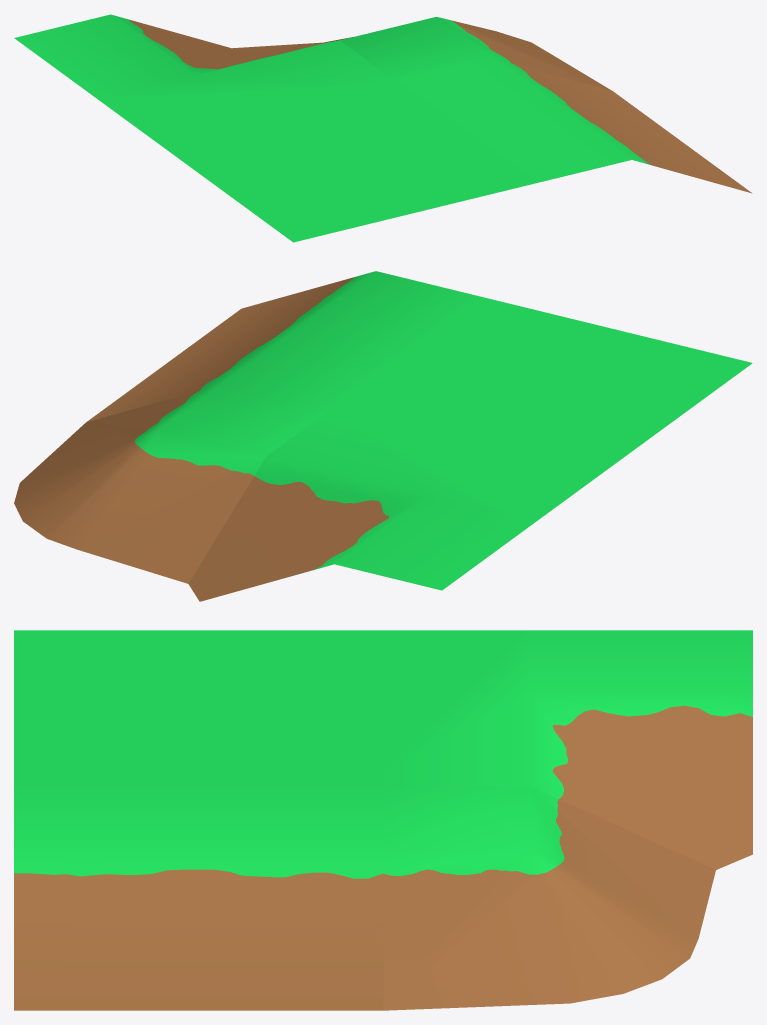
File: WFC-Chunks.glb
The picture shows the model from 3 angles, top to bottom: view 1: azimuth 30°, elevation 25°; view 2: azimuth 150°, elevation 25°; view 3: azimuth 270°, elevation 25°; orthographic projection. The views are drawn at different scales.
Parts seen in each view (by area): view 1: Grass, InCorner, Slope, Corner; view 2: InCorner, Grass, Corner, Slope; view 3: Slope, InCorner, Corner, Grass.
Boxes of the visible parts, <box> form: Grass: <box>154,81,534,242</box>; InCorner: <box>14,14,394,140</box>; Slope: <box>396,57,752,193</box>; Corner: <box>324,17,612,91</box>; InCorner: <box>188,411,597,601</box>; Grass: <box>328,297,752,476</box>; Corner: <box>14,385,327,583</box>; Slope: <box>86,271,483,422</box>; Slope: <box>14,786,383,1010</box>; InCorner: <box>383,630,752,869</box>; Corner: <box>383,786,715,1010</box>; Grass: <box>14,630,383,786</box>.
Bounding box in the file's own units: 1.9 × 0.25 × 2.
